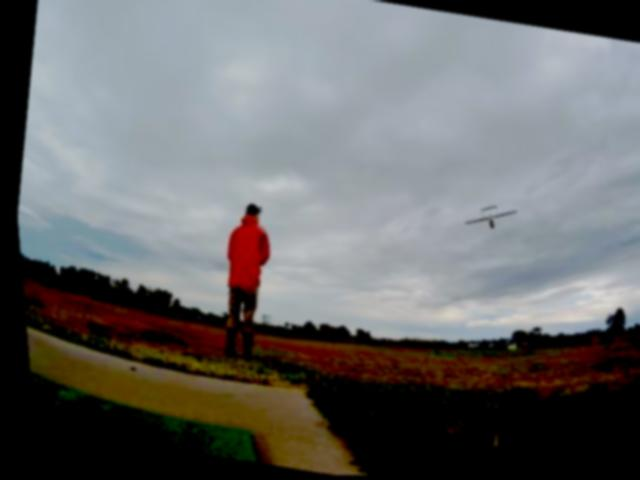uav: (455, 194, 518, 236)
